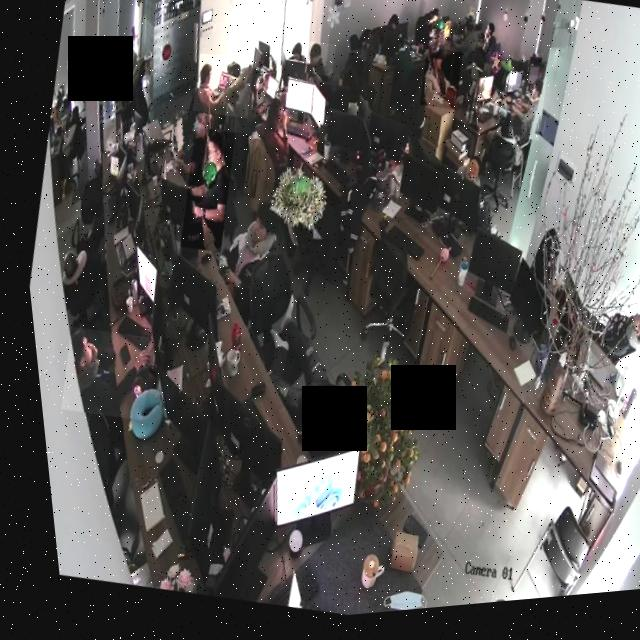person: (44, 321, 151, 427), (165, 128, 241, 258), (202, 194, 286, 300), (156, 109, 221, 198), (244, 93, 301, 190), (185, 52, 257, 126), (224, 67, 275, 142), (411, 52, 465, 120), (499, 80, 549, 152), (410, 8, 444, 56), (298, 44, 337, 85), (468, 27, 500, 75)
